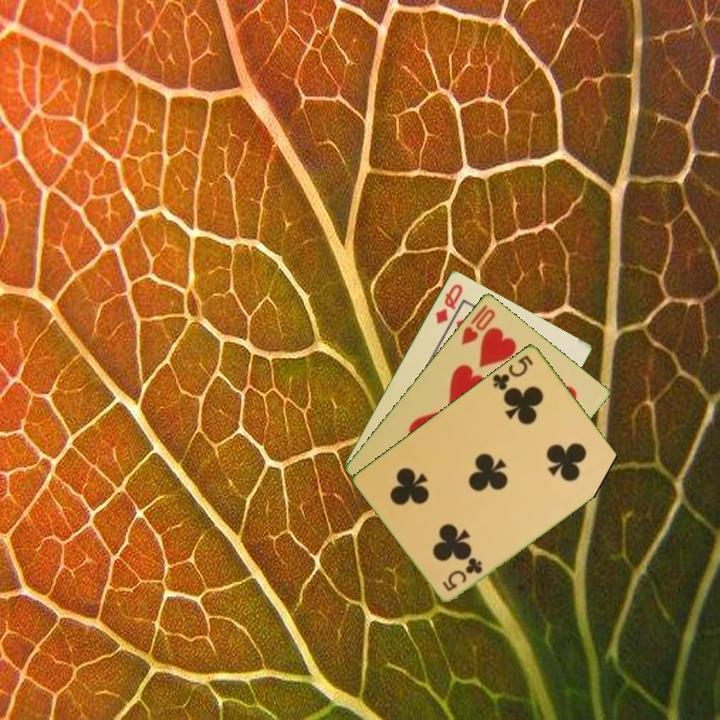10h: (457, 305, 498, 348)
5c: (488, 351, 536, 393), (439, 554, 486, 594)
Qd: (432, 280, 466, 327)
